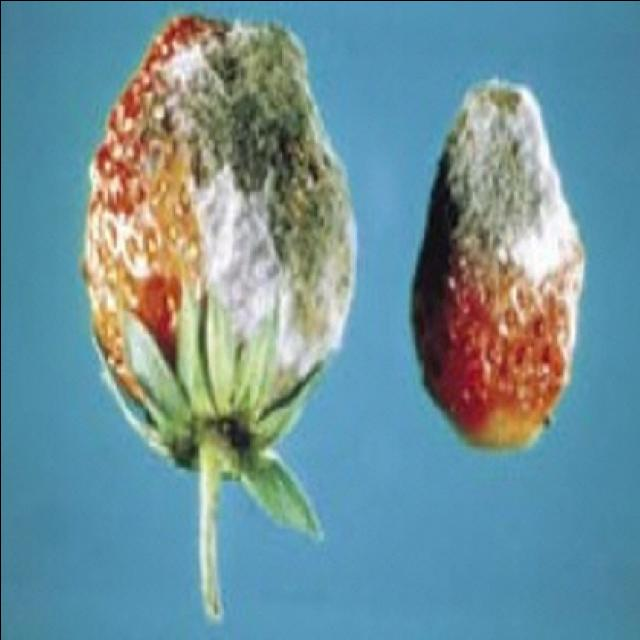Gray Mold: (82, 15, 358, 417), (412, 76, 586, 419)
